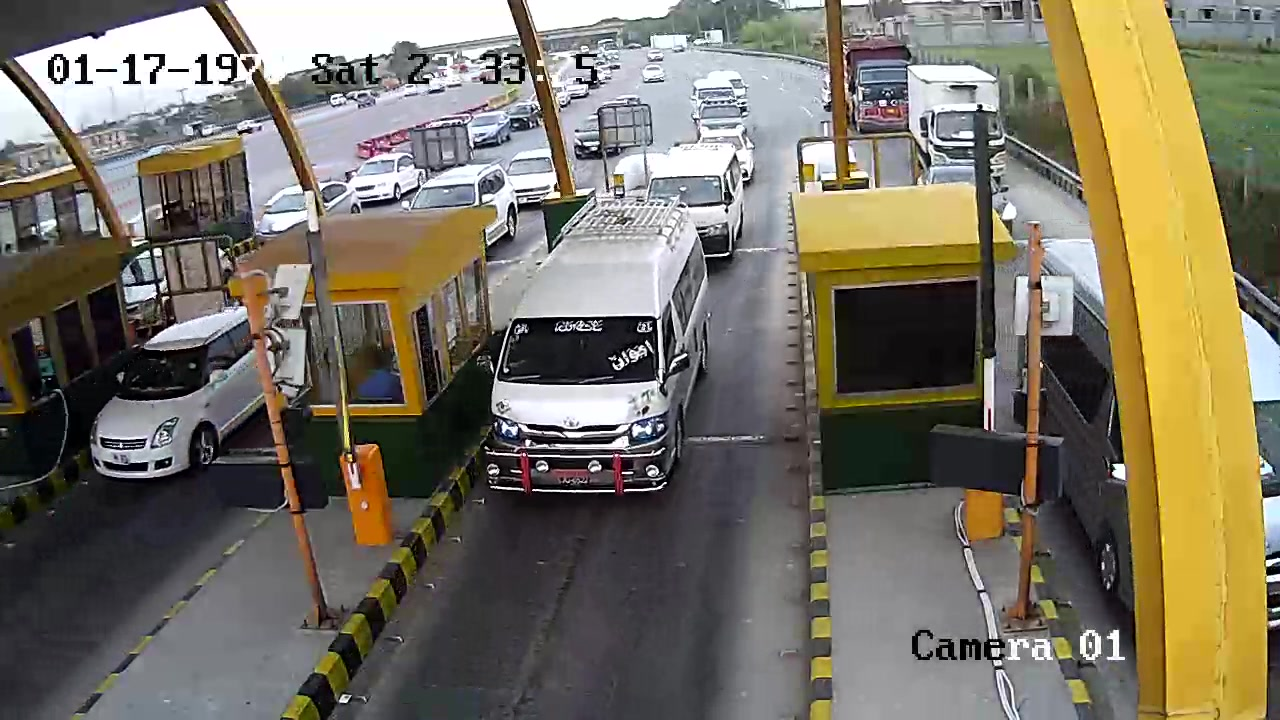F2: (479, 190, 721, 501)
